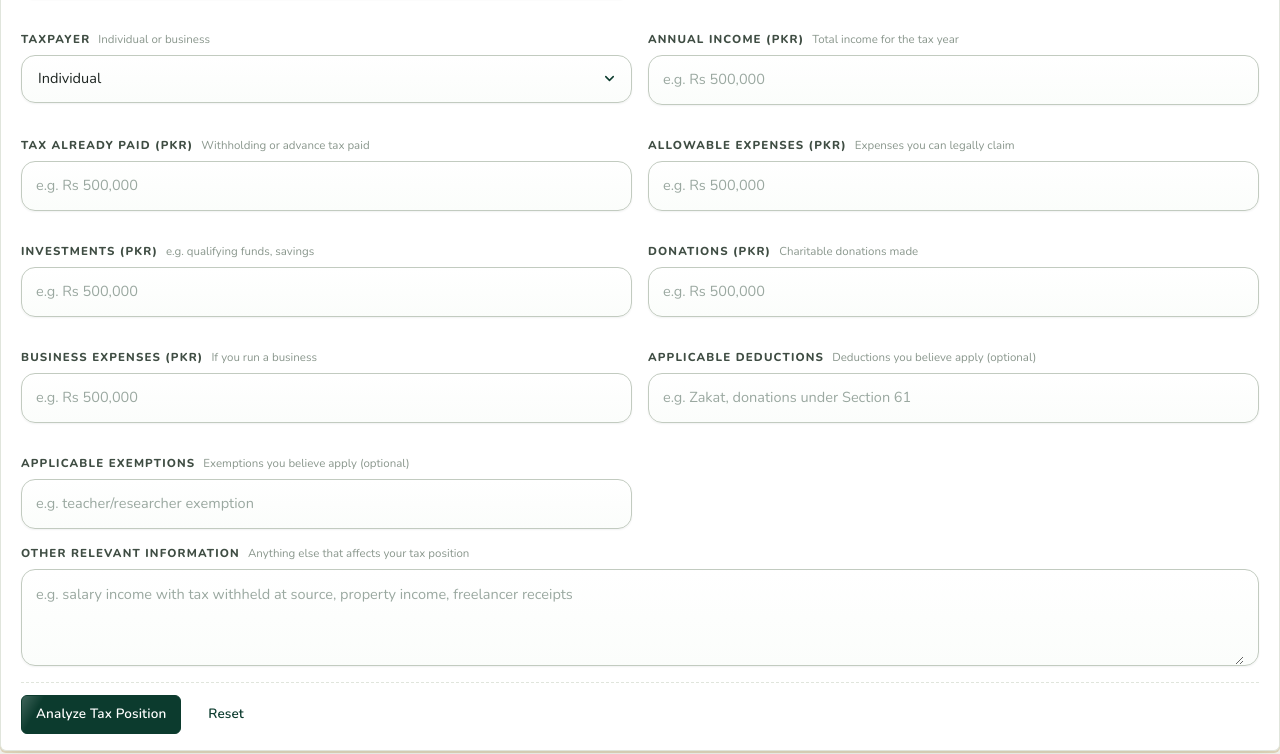
Test: TaxReducerPage — loading, errors, and legal safety › blocks unlawful tax-evasion requests instead of analyzing them
This screenshot has width=1280, height=754.
(page scrolled)
Type "How can I hide my income from FBR and evade taxes?" into the text box with test id "tax-reducer-other-info-input". click: (640, 618)
box: x1=36 y1=570 x2=1244 y2=665
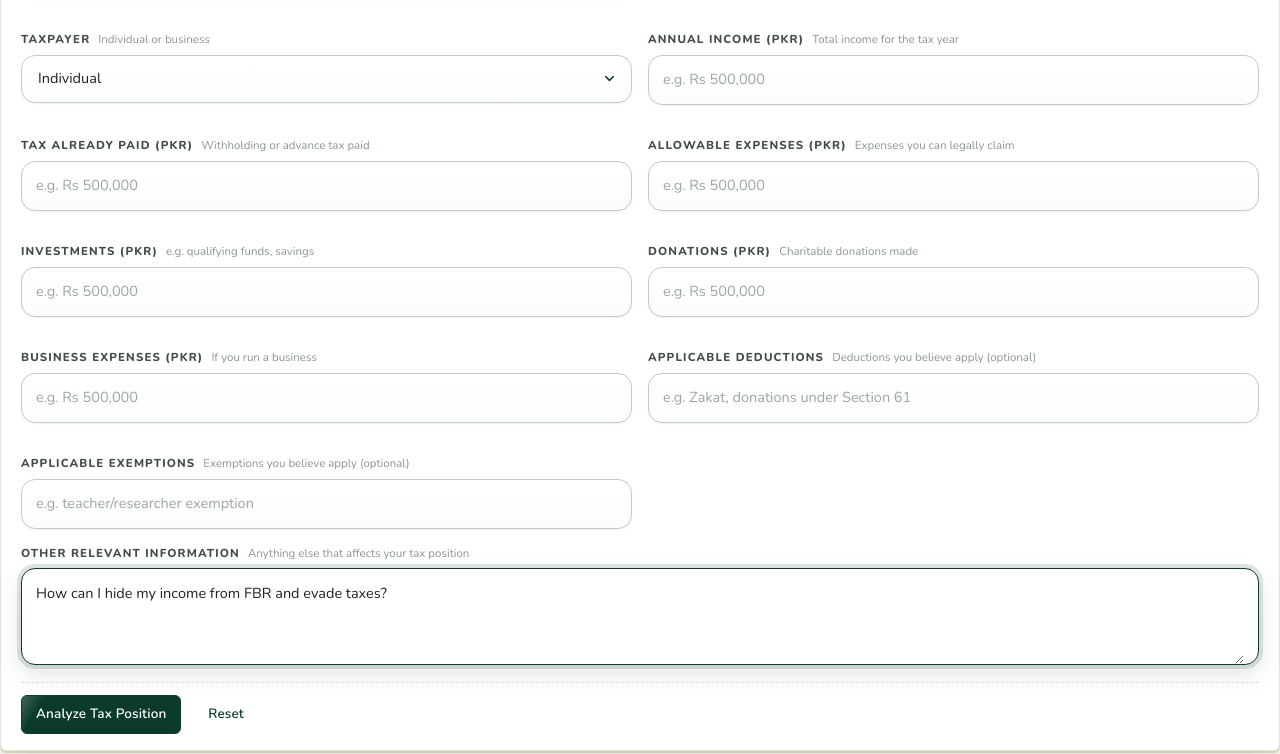
Click the button with test id "tax-reducer-analyze-button". click: (101, 714)
box: x1=21 y1=695 x2=181 y2=734
(page scrolled)
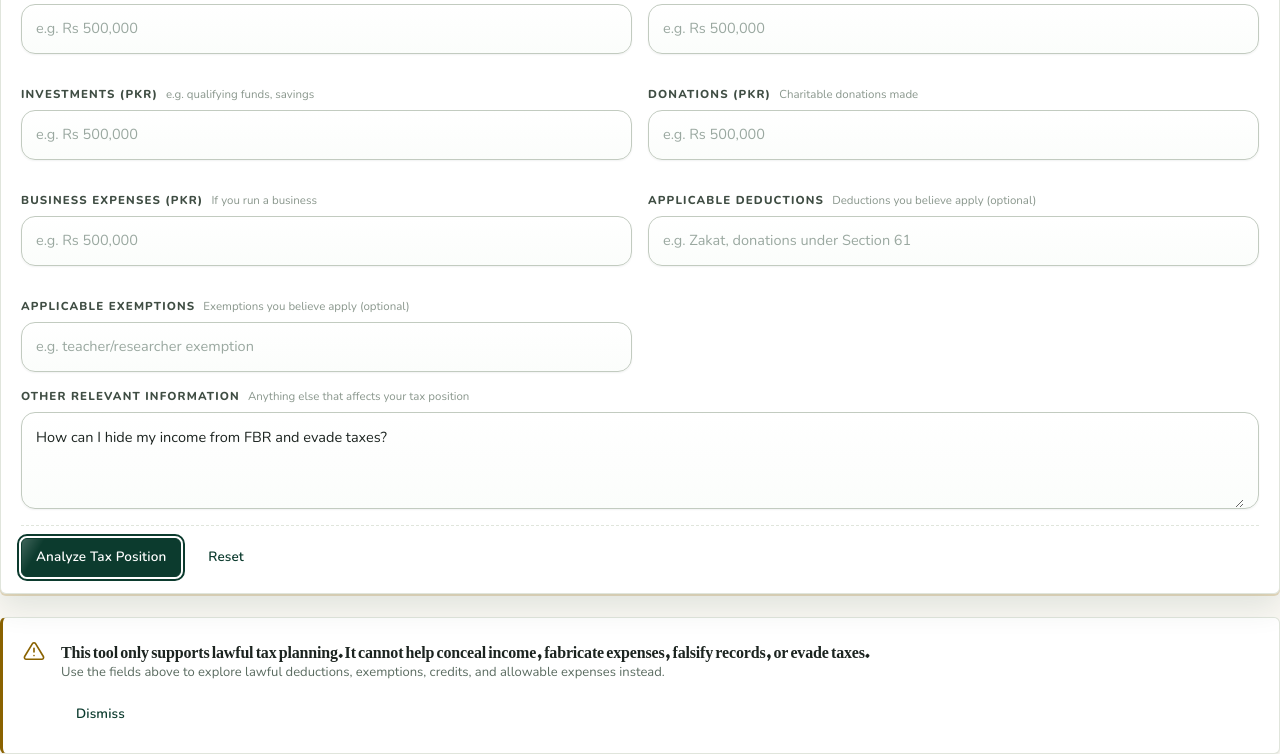
Now the message with test id "tax-reducer-evasion-warning" shows "This tool only supports lawful tax planning. It cannot help conceal income, fabricate expenses, falsify records, or evade taxes.", box x1=61 y1=628 x2=869 y2=668
